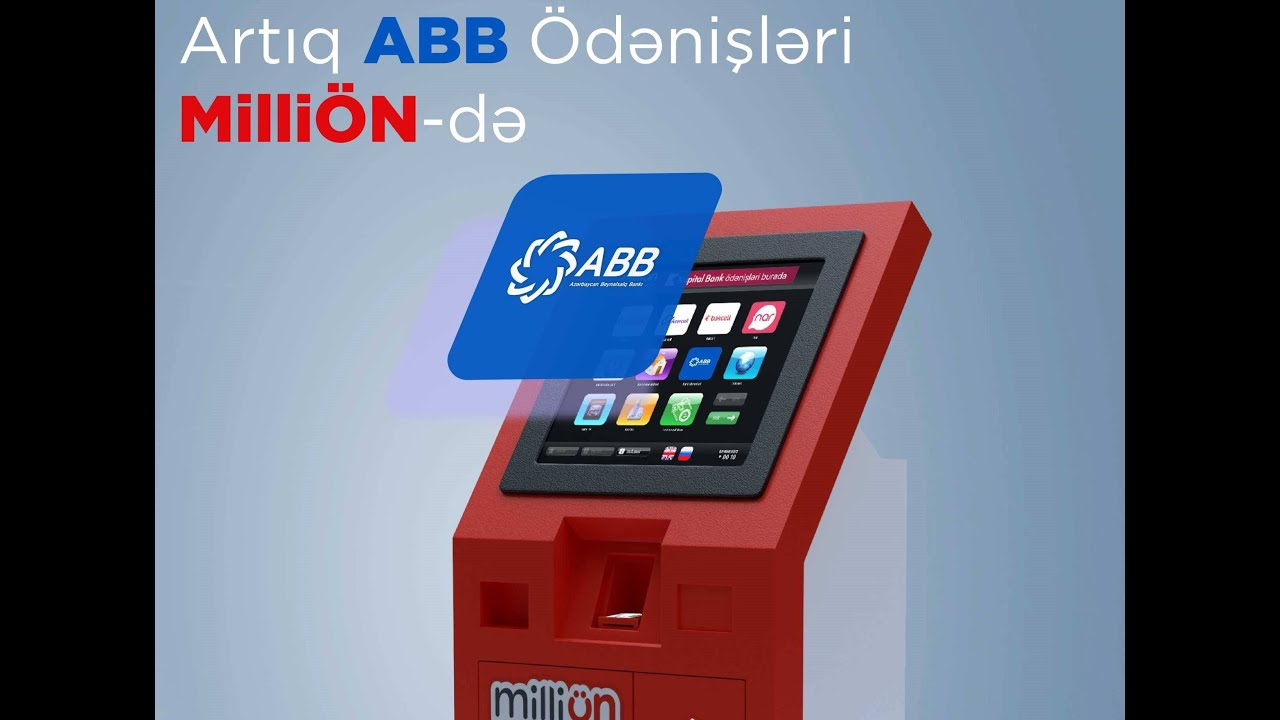ABB: (505, 229, 582, 306)
